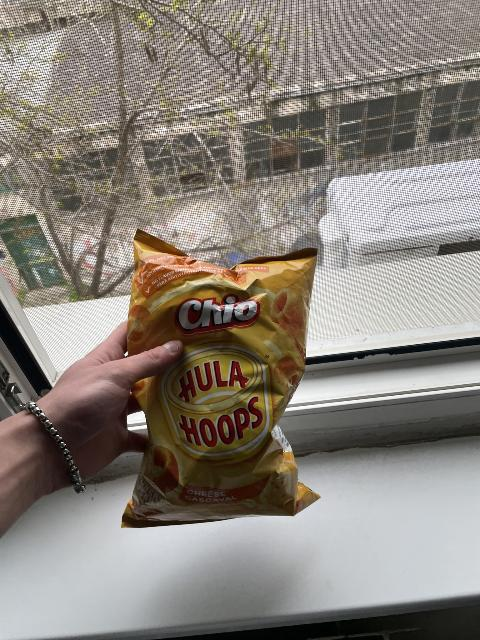Chio Hula Hoops Cheese 70g: (122, 250, 330, 523)
